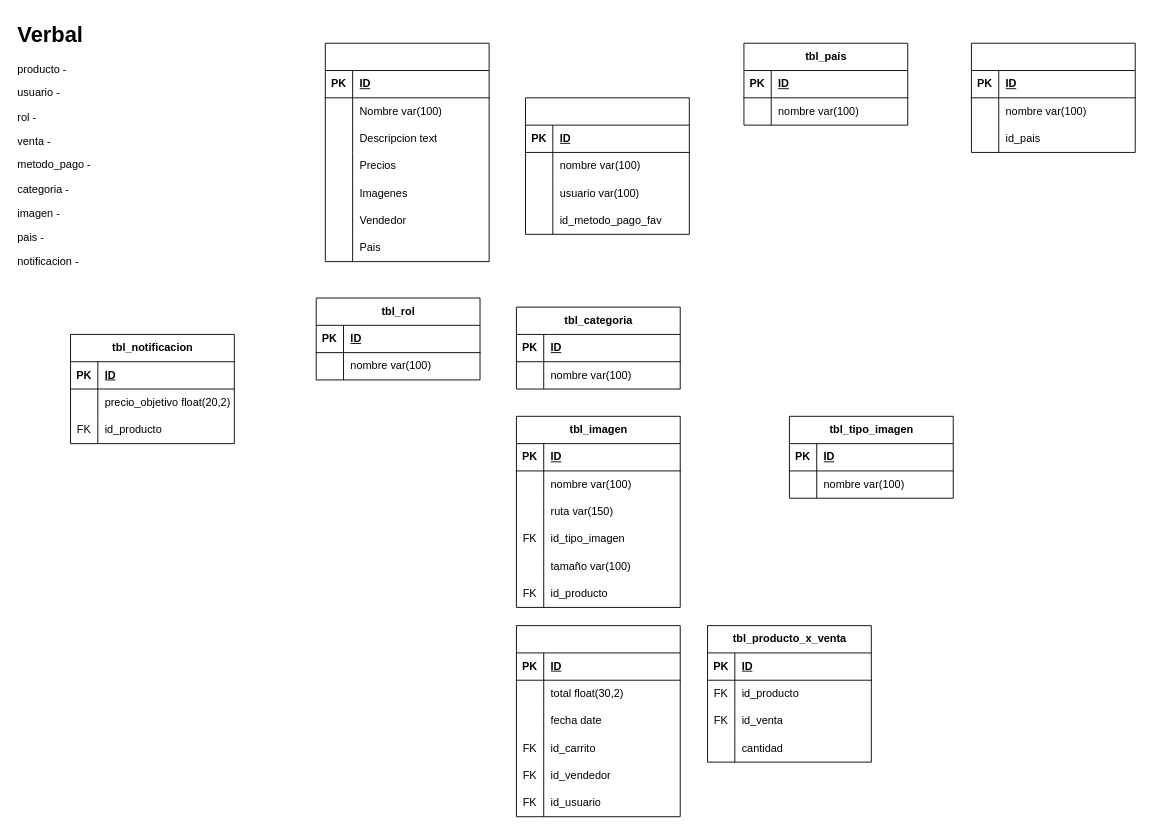
The diagram is 1151 pixels wide and 833 high, and some of its shapes have lost their labels. Here are the shapes that lost their labels. From the top down, the box of each, then its label:
(971, 42, 1135, 152): tbl_metodo_pago
(324, 42, 489, 262): tbl_producto
(525, 97, 689, 234): tbl_usuario
(516, 625, 680, 817): tbl_venta
